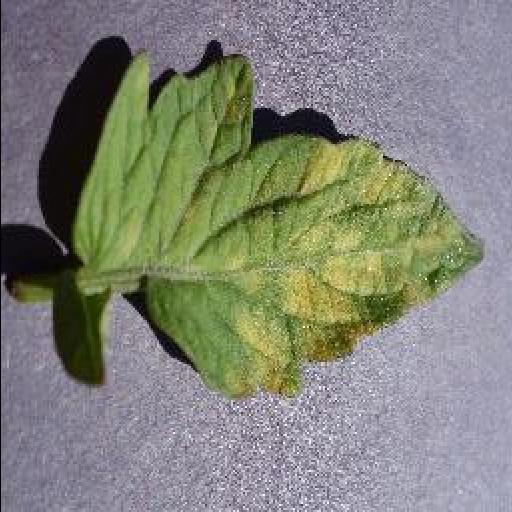disease_tomato: (74, 52, 486, 400)
